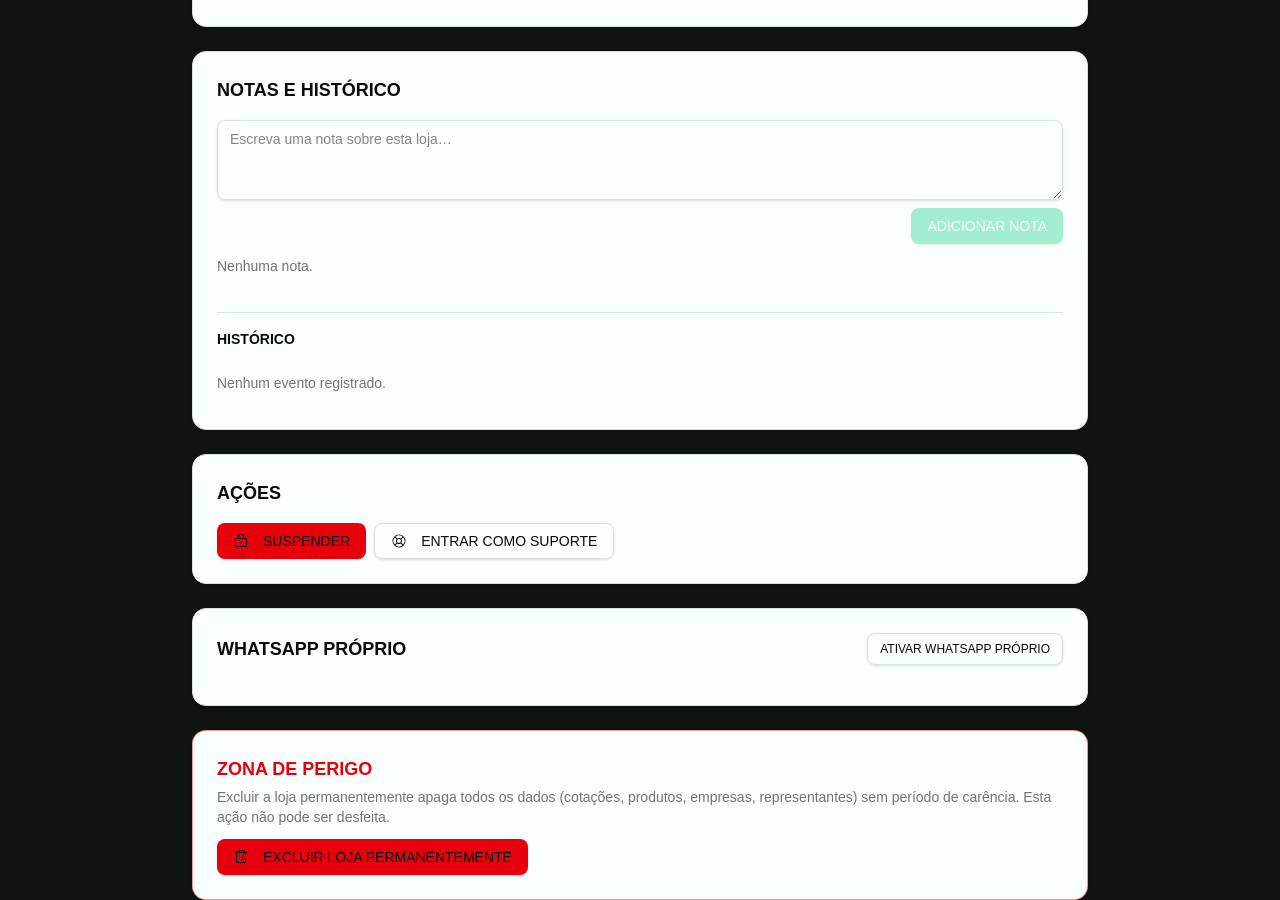
Test: CompradorDetalhePage › excluir loja: botão fica desabilitado até digitar o slug exato
The width and height of the screenshot is (1280, 900).
(page scrolled)
Click the button "Excluir loja permanentemente". click: (372, 857)
box: [217,839,528,875]
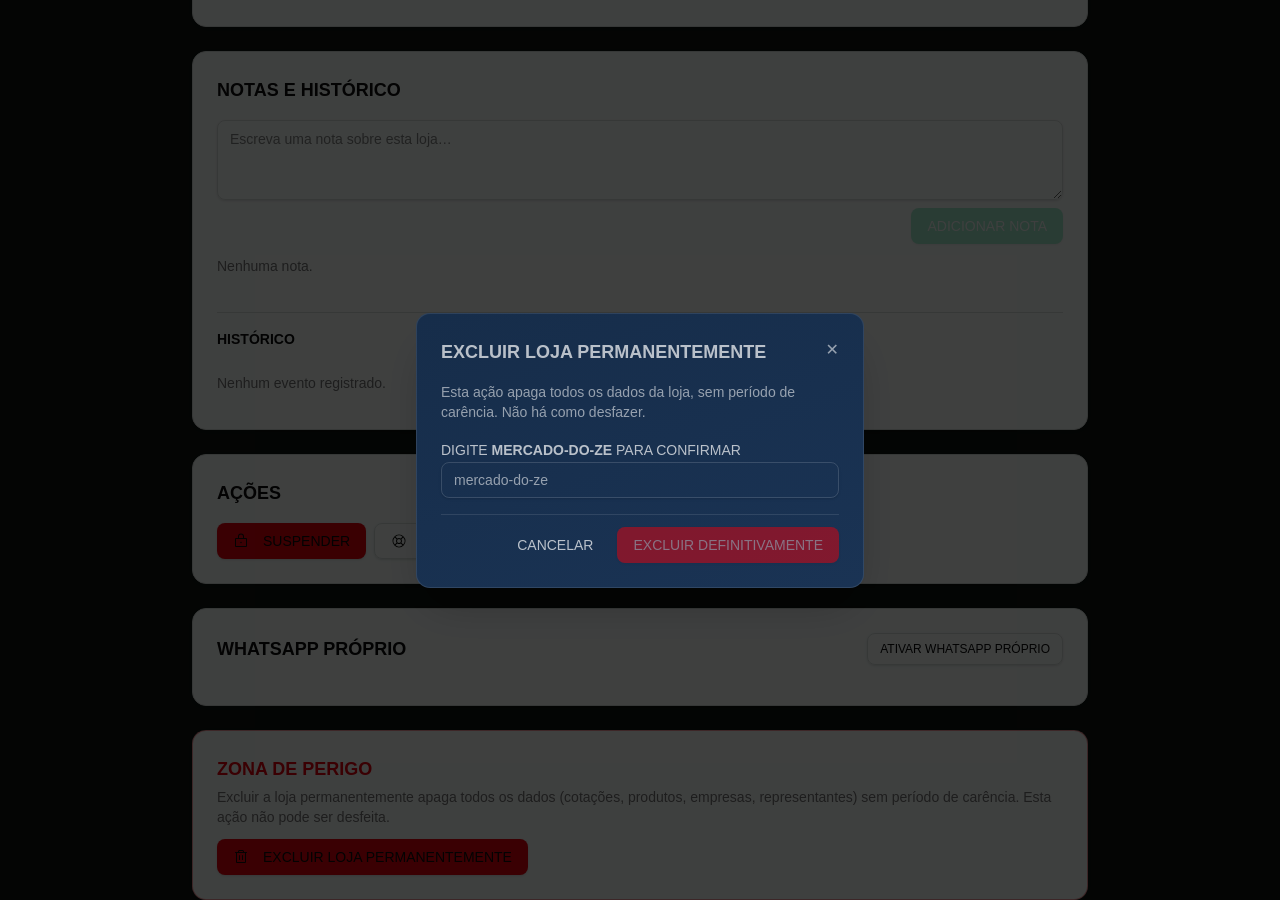
expect the button "Excluir definitivamente" is disabled: met, box [618,526,839,562]
Type "slug-errado" into the field labelled "Digite mercado-do-ze para confirmar". click: (640, 480)
box: [441,462,839,498]
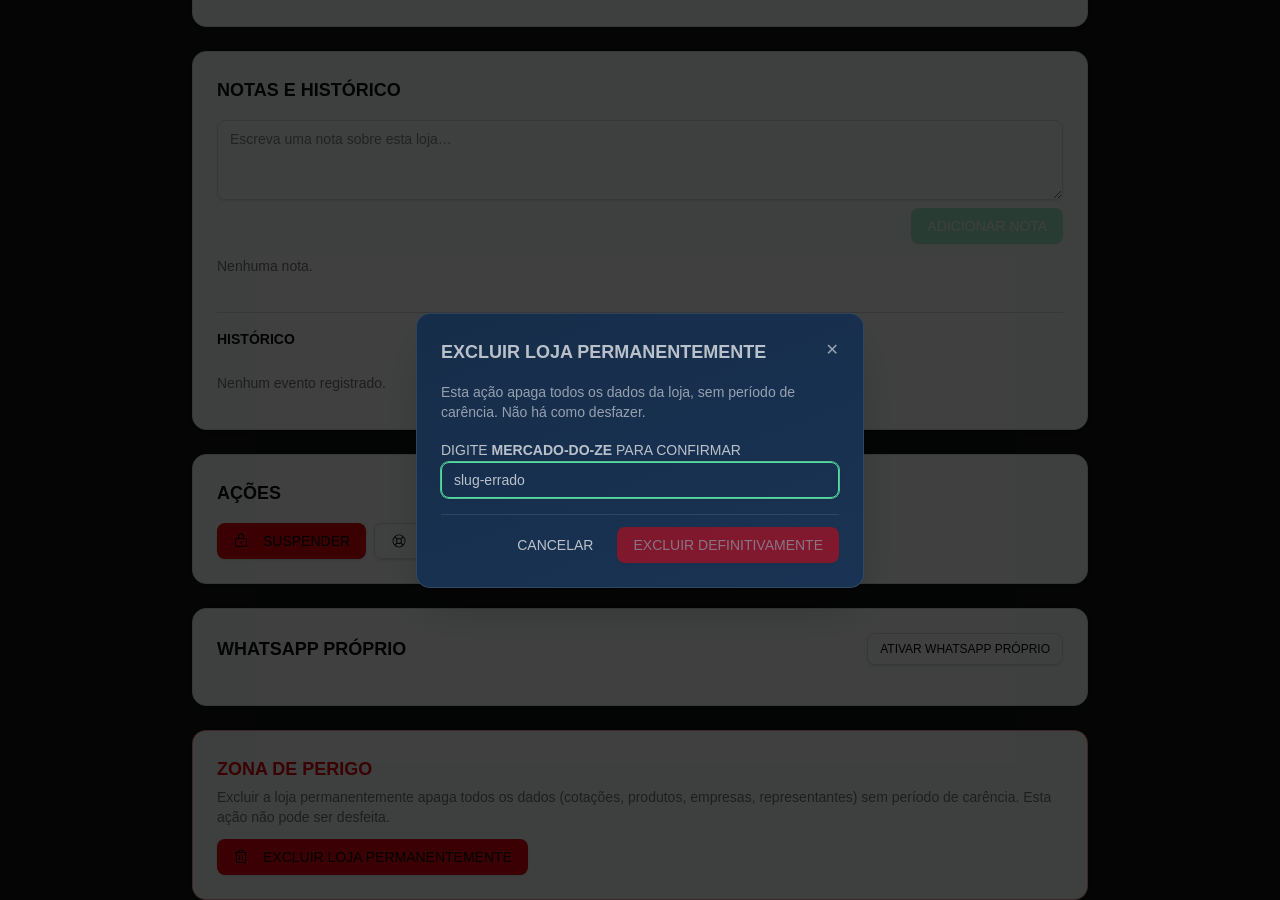
expect the button "Excluir definitivamente" is disabled: met, box [618,526,839,562]
Replace the text in the field labelled "Digite mercado-do-ze para confirmar" with "mercado-do-ze". click: (640, 480)
box: [441,462,839,498]
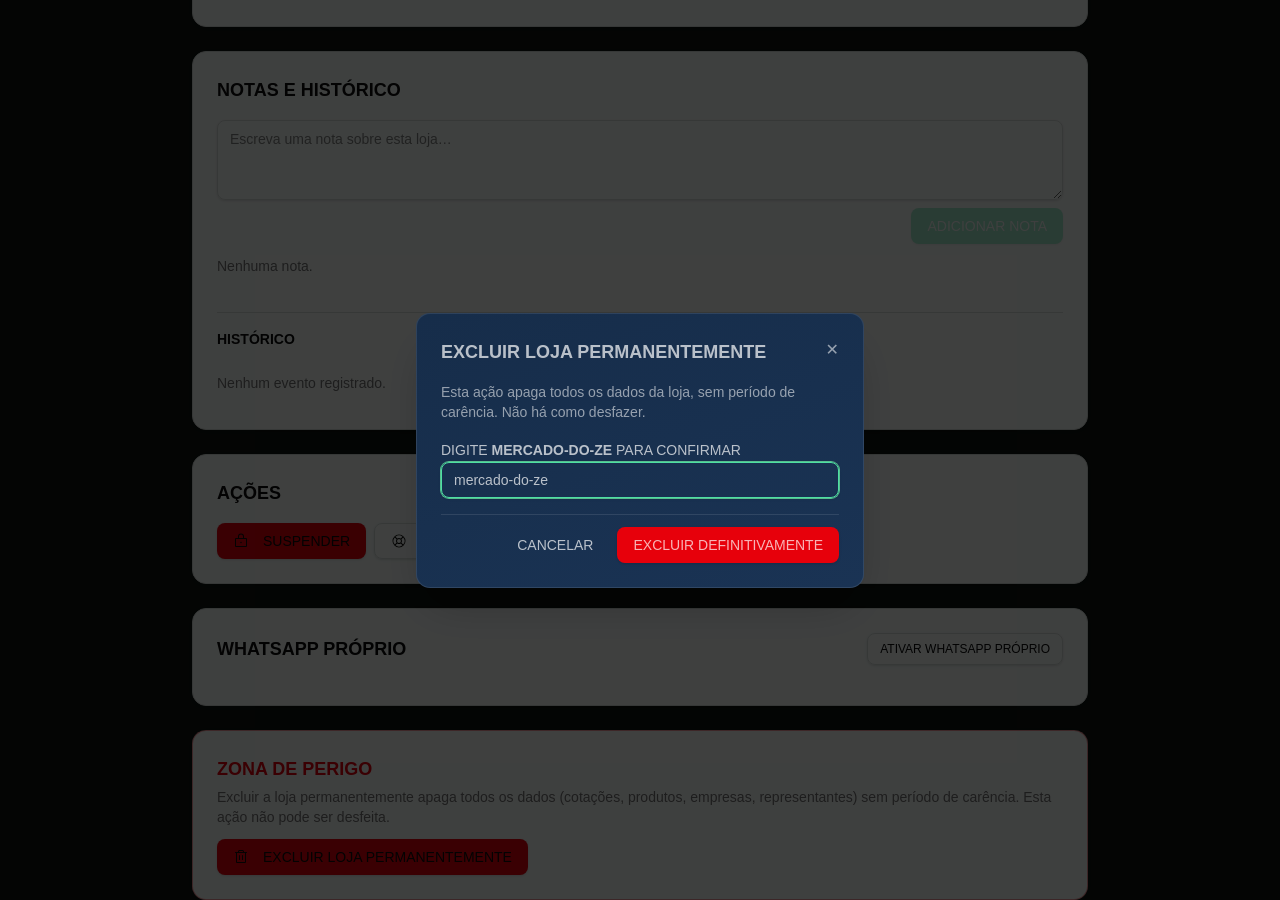
expect the button "Excluir definitivamente" is enabled: met, box [618,526,839,562]
